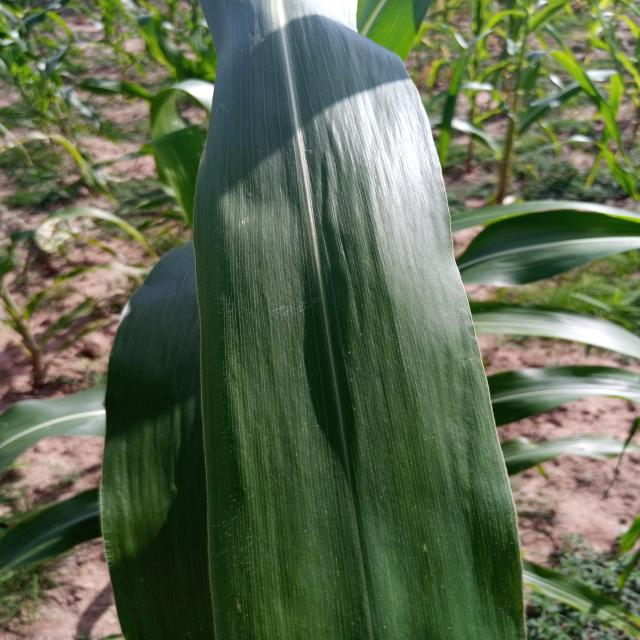healthy-maize: (239, 165, 440, 638), (230, 18, 370, 156)
